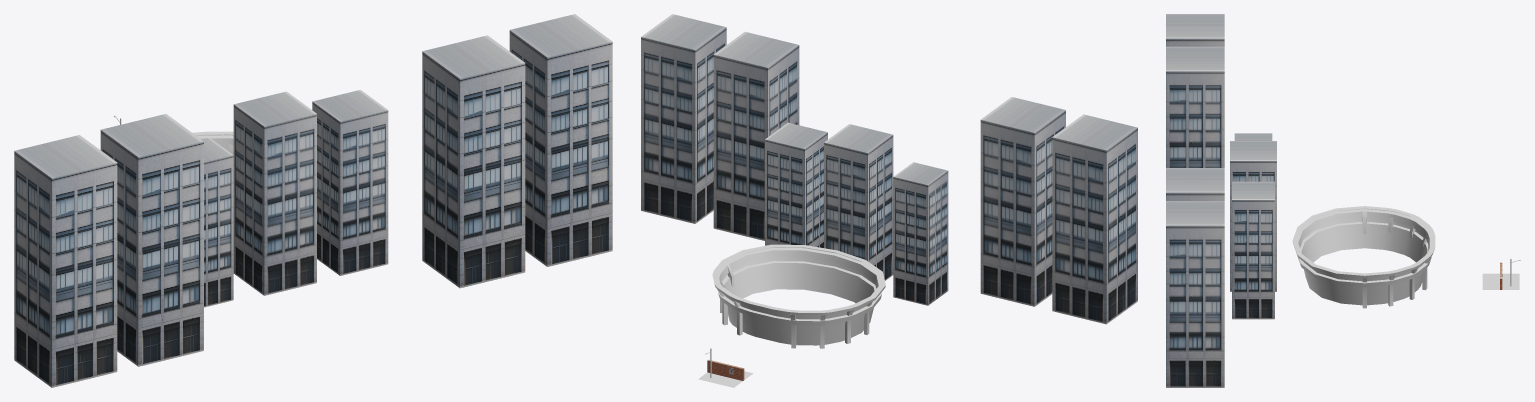
Rendered from menu pricipal.fbx.
3 views of the same model, side by side, from view 1: azimuth 30°, elevation 25°; view 2: azimuth 150°, elevation 25°; view 3: azimuth 270°, elevation 25° (orthographic). The views are drawn at different scales.
Parts seen in each view (by area): view 1: Predio 4, Predio 6, Predio 7, Predio 5, Predio 1, Predio 3, Predio 2; view 2: Predio 6, Predio 7, Predio 5, Predio 4, Arena, Predio 1, Predio 2, Predio 3, Parede; view 3: Predio 7, Arena, Predio 5, Predio 3, Predio 1, Predio 4, Predio 6, Chão, Predio 2.
Boxes of the visible parts, x1,y1,x2,y2 form: Predio 4: [422, 35, 525, 288]; Predio 6: [14, 135, 117, 387]; Predio 7: [509, 14, 612, 266]; Predio 5: [100, 114, 203, 366]; Predio 1: [233, 91, 316, 295]; Predio 3: [312, 90, 388, 275]; Predio 2: [201, 137, 233, 307]; Predio 6: [1052, 114, 1137, 324]; Predio 7: [641, 14, 726, 223]; Predio 5: [980, 97, 1065, 306]; Predio 4: [713, 32, 799, 240]; Arena: [712, 244, 885, 348]; Predio 1: [824, 124, 893, 280]; Predio 2: [893, 162, 948, 305]; Predio 3: [765, 122, 827, 247]; Parede: [707, 359, 744, 380]; Predio 7: [1166, 201, 1224, 387]; Arena: [1292, 206, 1435, 308]; Predio 5: [1166, 46, 1224, 167]; Predio 3: [1232, 181, 1274, 319]; Predio 1: [1230, 141, 1276, 291]; Predio 4: [1166, 168, 1224, 200]; Predio 6: [1166, 14, 1224, 46]; Chão: [1482, 273, 1519, 289]; Predio 2: [1234, 133, 1272, 140].
Bounding box in the file's own units: 27225 × 9720 × 19274.
3 materials, 3 textured.
